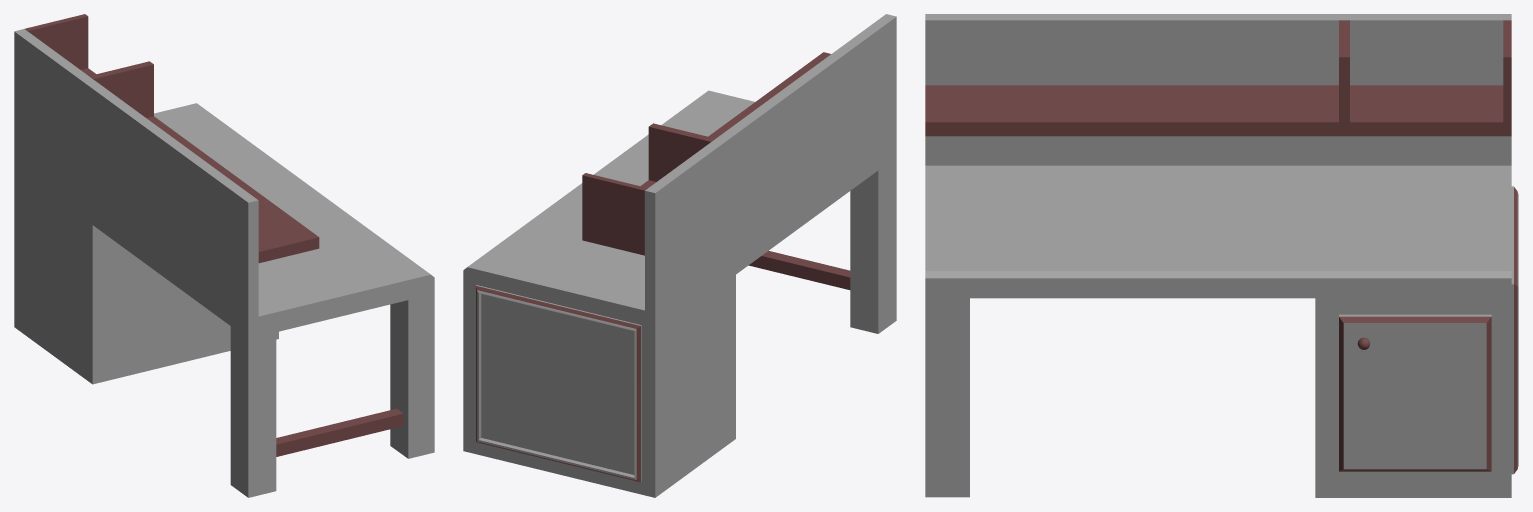
The model's file is study desk.fbx.
3 views of the same model, side by side, from view 1: azimuth 30°, elevation 25°; view 2: azimuth 150°, elevation 25°; view 3: azimuth 270°, elevation 25° (orthographic). The views are drawn at different scales.
Parts seen in each view (by area): view 1: pCube1, pCube2, pCube3, pCube7; view 2: pCube1, pCube2, pCube3, pCube6, pCube7; view 3: pCube1, pCube2, pCube3, pCube4, pCube6.
Part boxes in pixels (x1,y1,x2,y2): pCube1: (14,103,434,497); pCube2: (14,29,258,321); pCube3: (25,14,319,263); pCube7: (276,408,403,456); pCube1: (463,90,896,497); pCube2: (645,14,896,315); pCube3: (582,52,830,255); pCube6: (476,285,641,482); pCube7: (748,250,850,289); pCube1: (925,165,1511,497); pCube2: (925,14,1511,165); pCube3: (925,20,1511,136); pCube4: (1339,314,1491,471); pCube6: (1511,186,1518,474).
Bounding box in the file's own units: 9.14 × 12.7 × 18.45.
